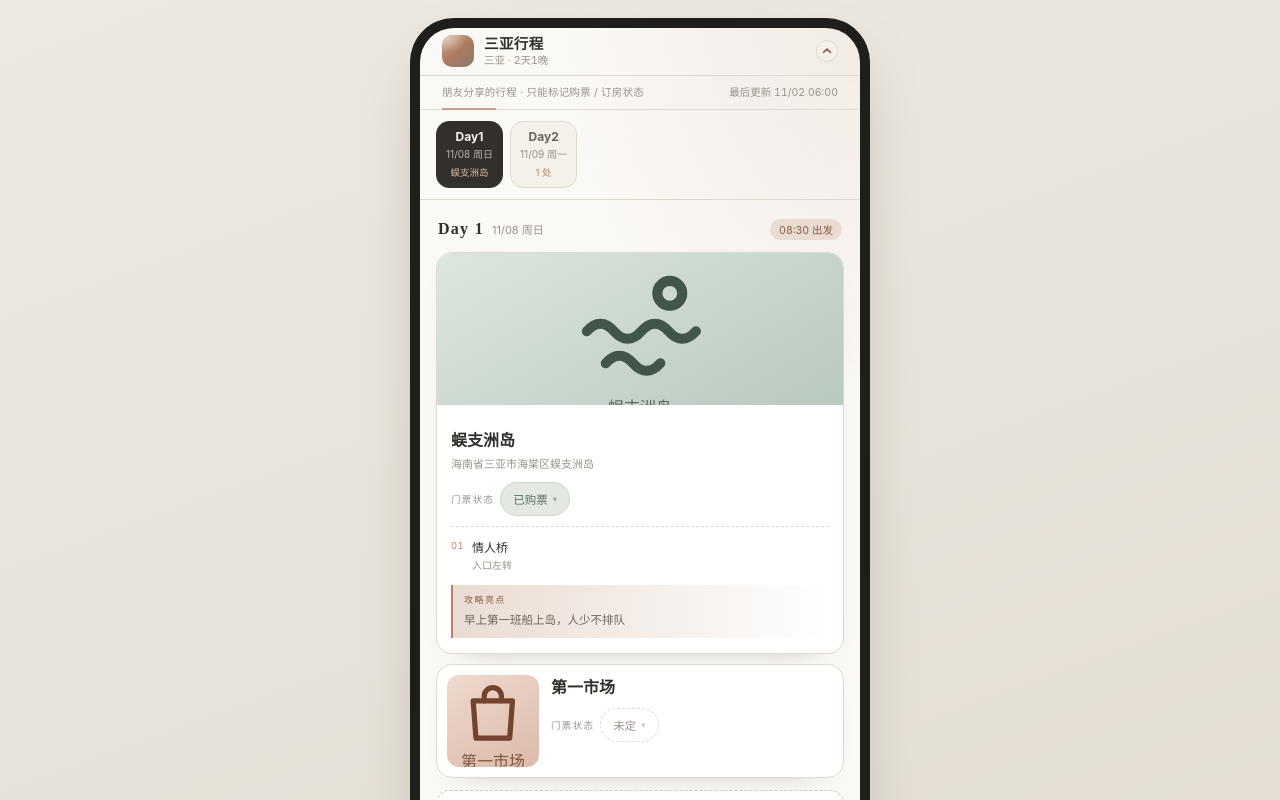
Test: ShareView 状态打标（Task #260） › 保存失败时回滚到原状态并弹提示
The image size is (1280, 800).
Click the button with aria-label "门票状态：未定，点击修改" at [629, 725], box [600,708,659,742]
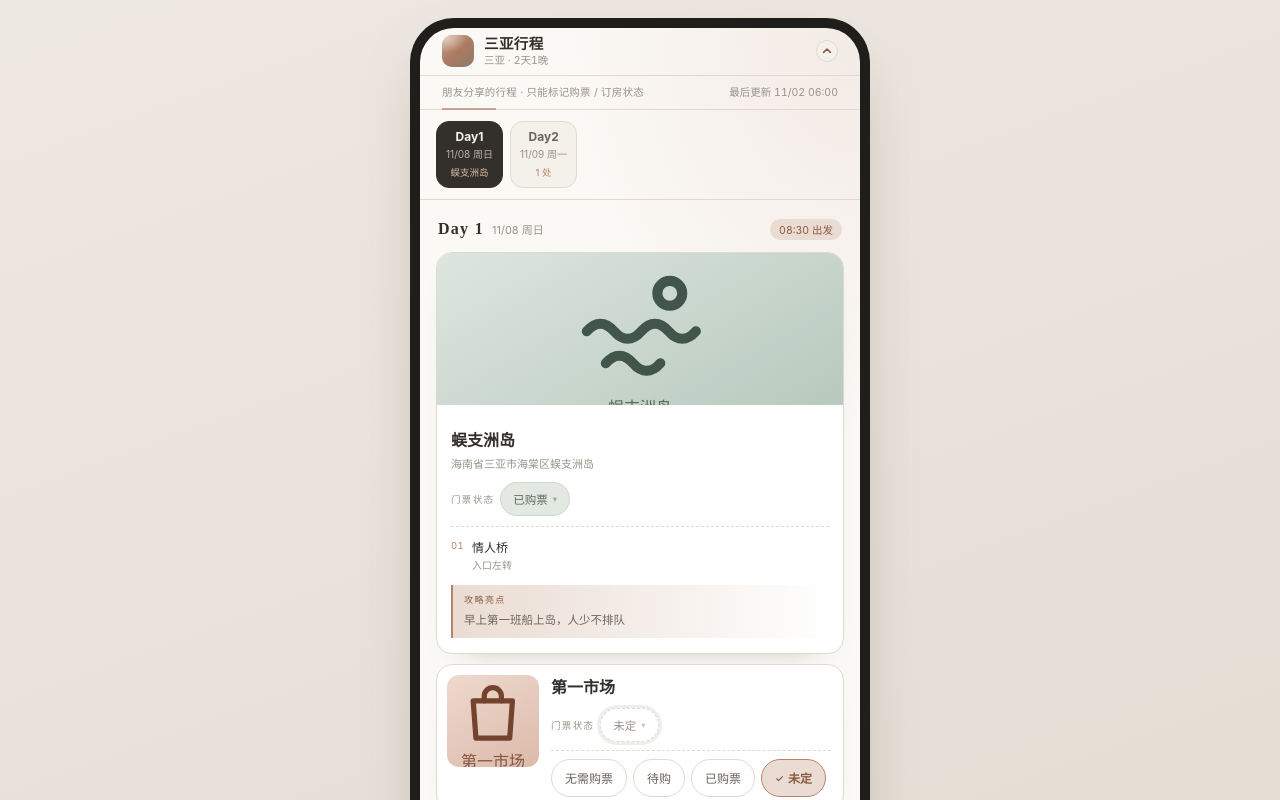
Click the option "待购" at [659, 778], box [633,759,685,797]
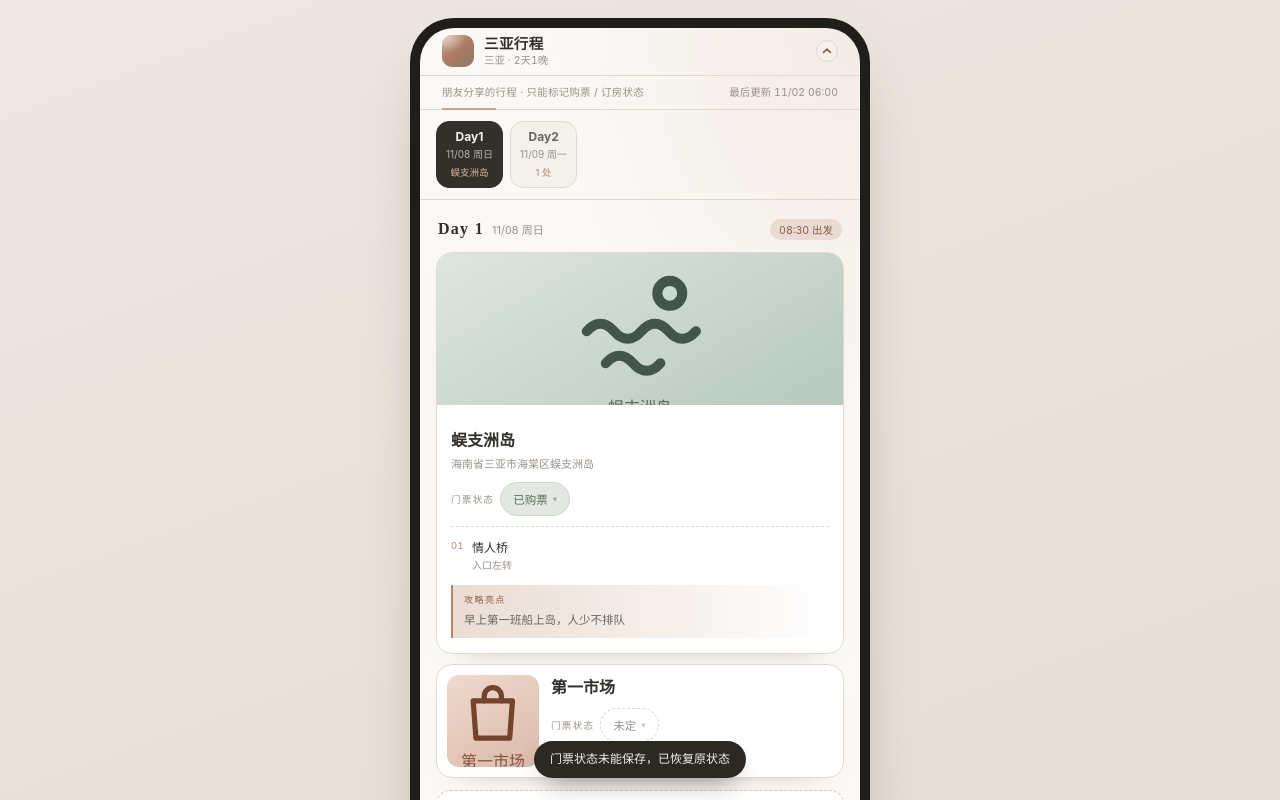
Expected: the button with aria-label "门票状态：未定，点击修改" is shown, [600,708,659,742]
Now the message reads "门票状态未能保存，已恢复原状态", box [550,751,730,766]
